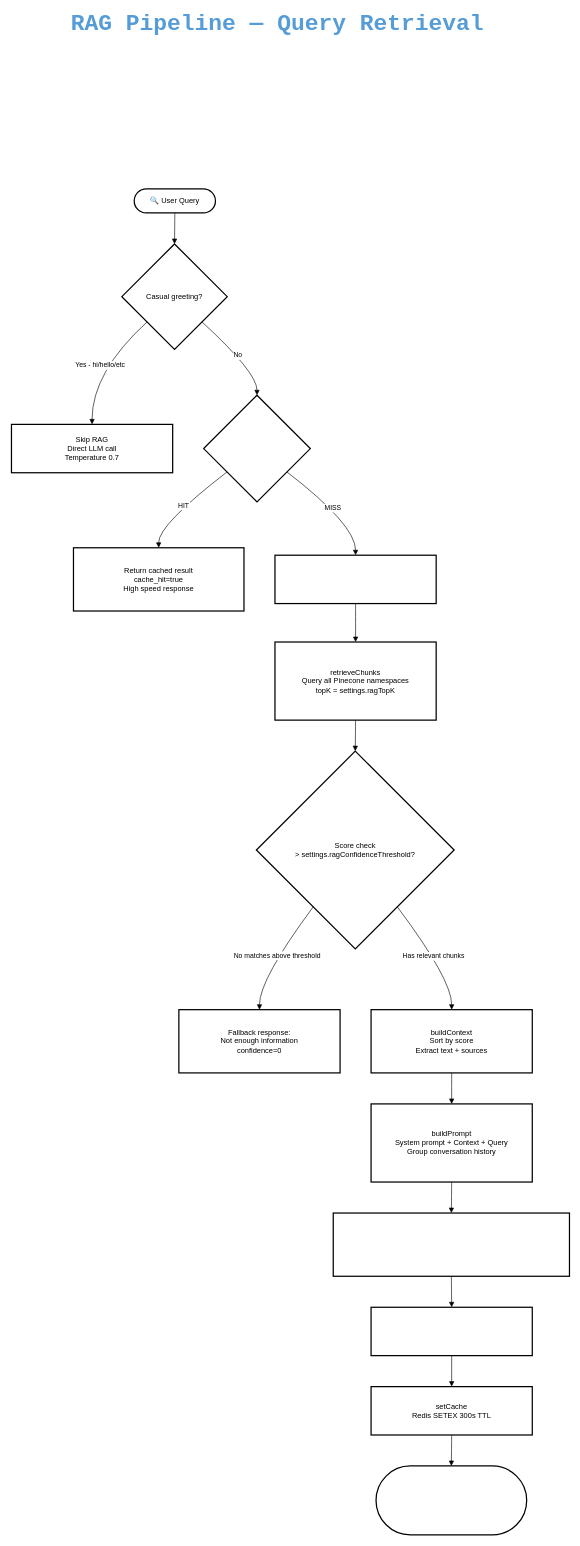
Image size: 580x1546. Some labels were removed from this diagram. Each missing label, with the centre of its shape:
embedText query Local MiniLM-L6-v2: pixel 355 579
Groq API chat.completions.create stream=true or false: pixel 451 1244
Parse response Extract answer + token usage: pixel 451 1331
Redis Cache Hit?: pixel 257 448
📤 Return answer, sources confidence, tokens_used latency_ms, model: pixel 451 1500
